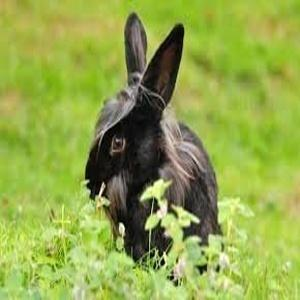rabbit: (87, 13, 223, 263)
